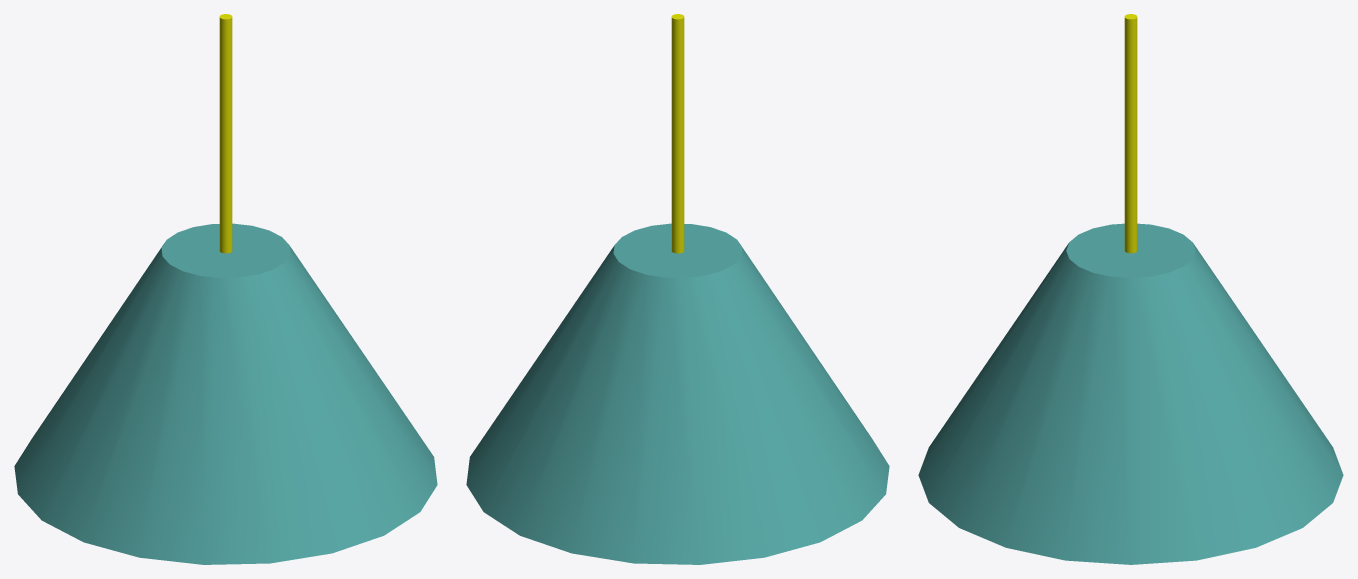
File: Hanging_Light.fbx
3 views of the same model, side by side, from view 1: azimuth 30°, elevation 25°; view 2: azimuth 150°, elevation 25°; view 3: azimuth 270°, elevation 25° (orthographic).
Visible parts, largest first — view 1: pCylinder1, pCylinder3; view 2: pCylinder1, pCylinder3; view 3: pCylinder1, pCylinder3.
Boxes of the visible parts, x1=… form: pCylinder1: x1=14, y1=223, x2=437, y2=564; pCylinder3: x1=219, y1=14, x2=232, y2=253; pCylinder1: x1=466, y1=223, x2=889, y2=564; pCylinder3: x1=671, y1=14, x2=684, y2=253; pCylinder1: x1=918, y1=223, x2=1343, y2=564; pCylinder3: x1=1124, y1=14, x2=1137, y2=253.
Bounding box in the file's own units: 3.88 × 4.62 × 3.88.
